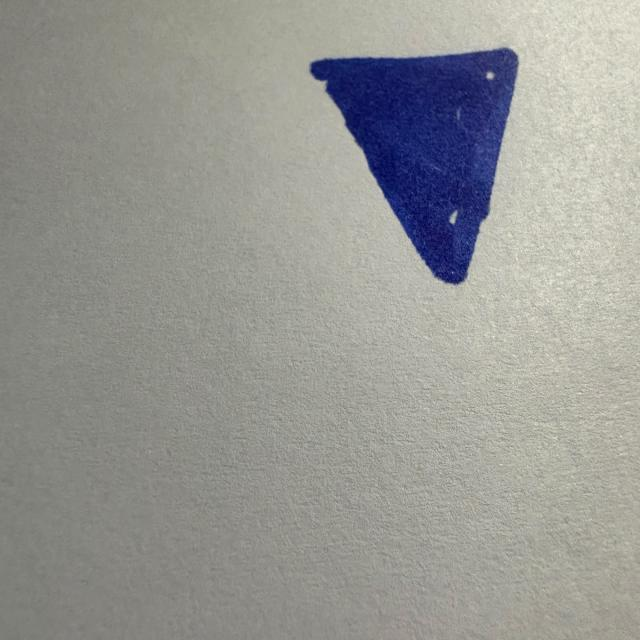Triangle: (310, 48, 518, 284)
